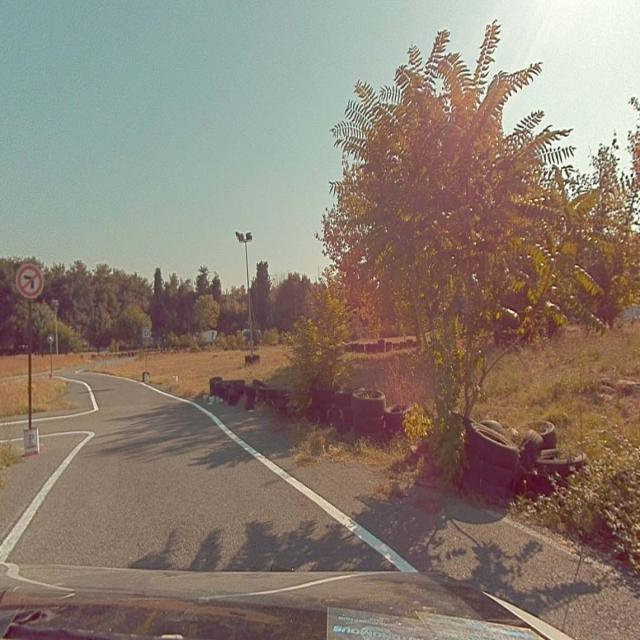durak: (144, 329, 150, 339)
soladonulmez: (18, 266, 41, 296)
